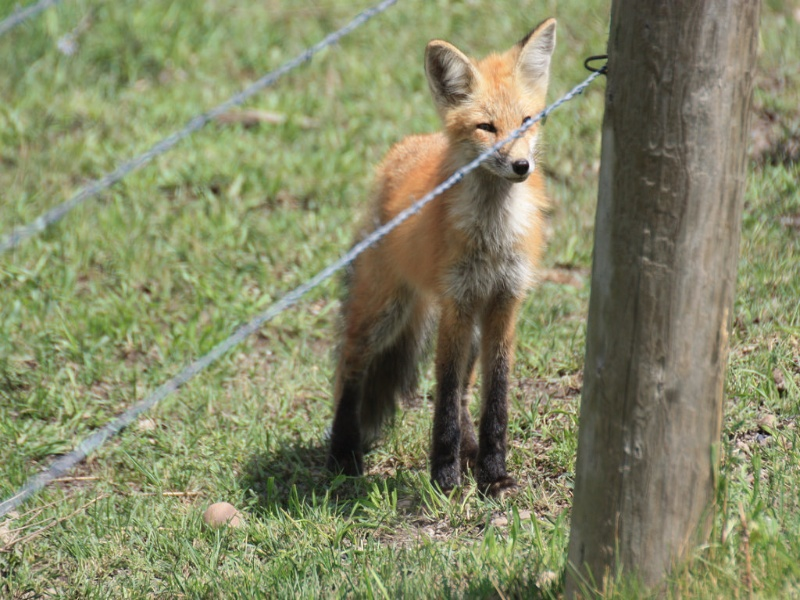fox: (321, 15, 561, 496)
